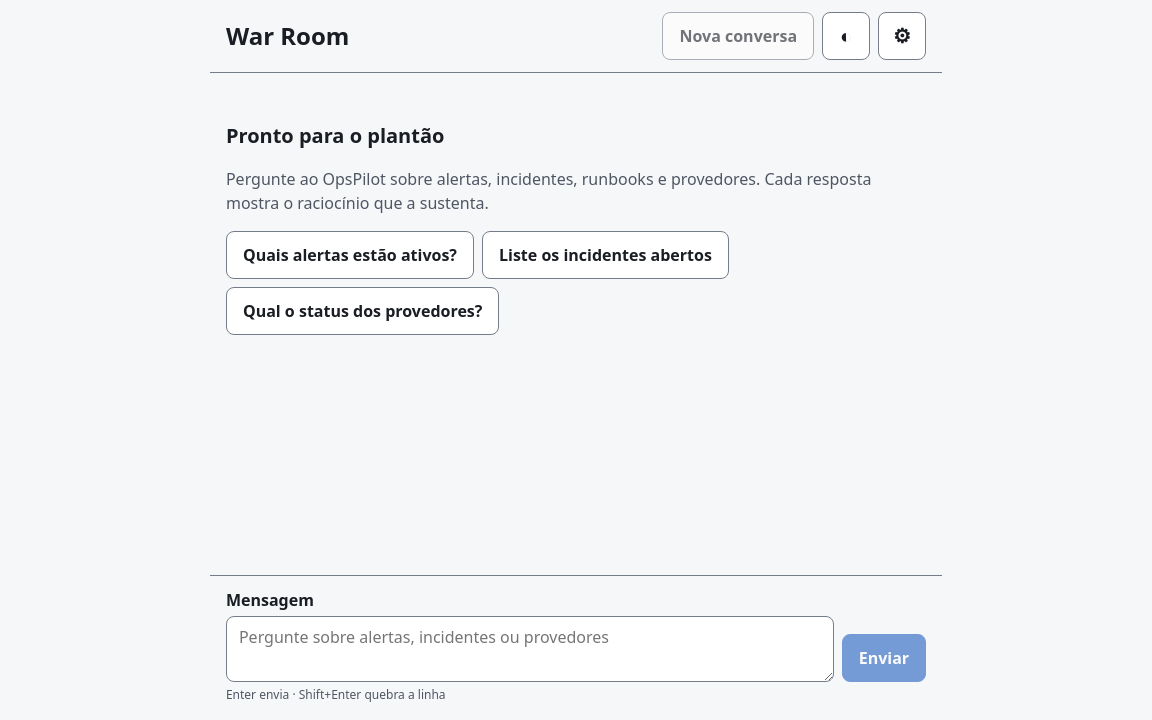
Test: Testar conexão reports the result in a status without saving
Click the button named "Configurações". click: [902, 36]
box: [878, 12, 926, 60]
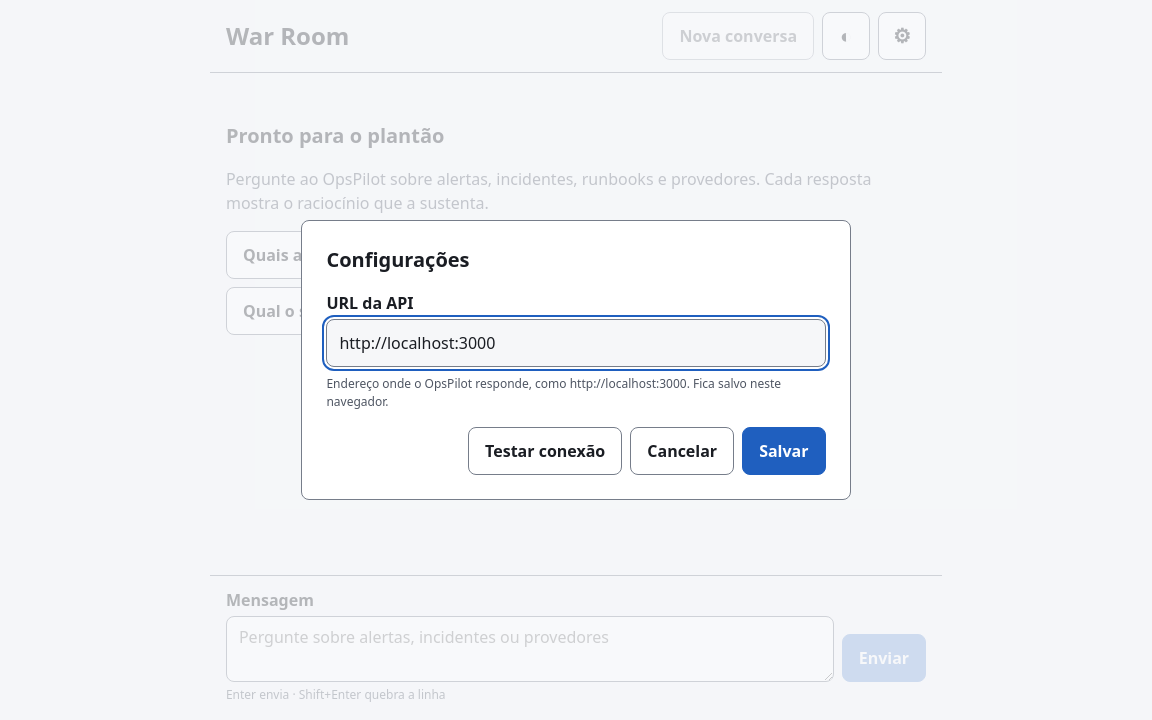
Replace the text in the field labelled "URL da API" with "http://ops.test:9000". click: [576, 343]
box: [326, 319, 826, 367]
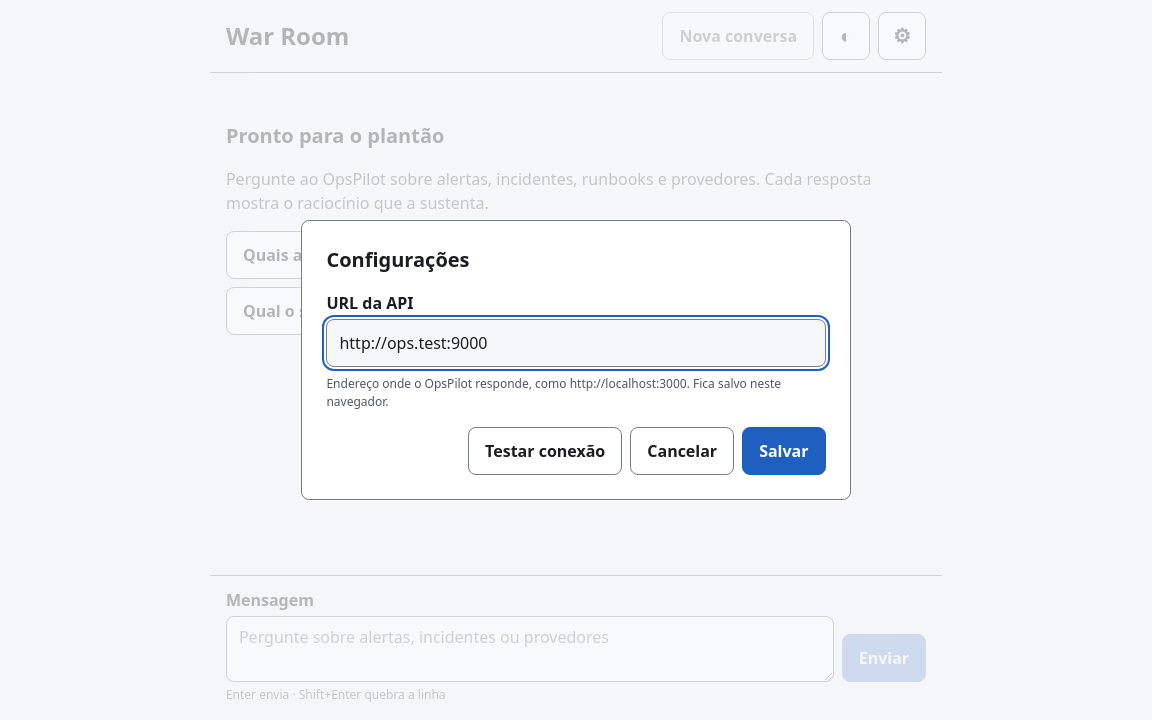
Click the button "Testar conexão". click: [545, 451]
box: [468, 427, 622, 475]
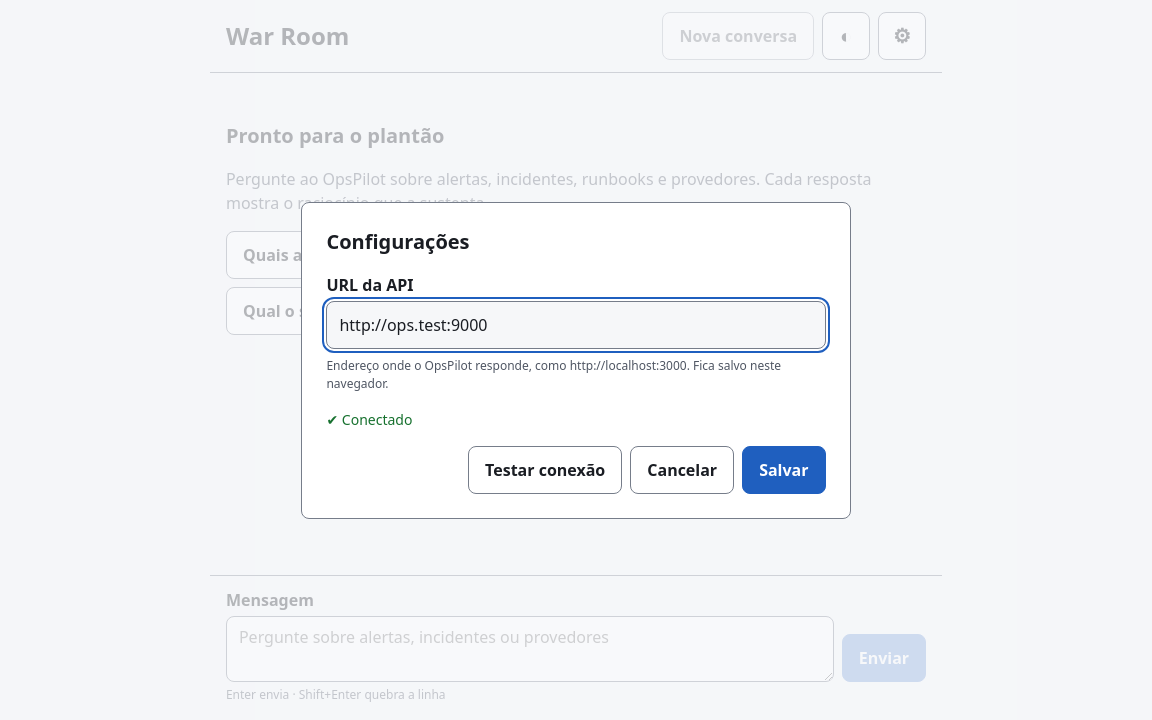
Expected: the text "Conectado" is shown, [342, 410, 412, 428]
Click the button "Testar conexão". click: [545, 470]
box: [468, 446, 622, 494]
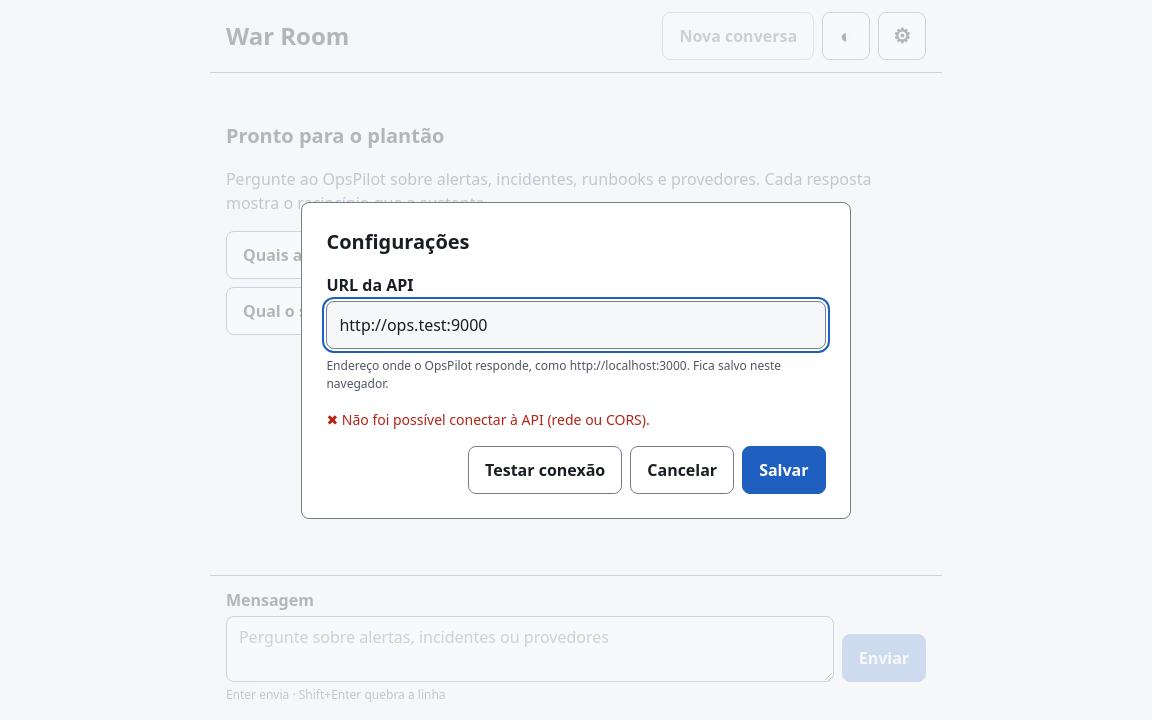
Expected: the text "✖ Não foi possível conectar à API (rede ou CORS)." is shown, [326, 410, 650, 428]
